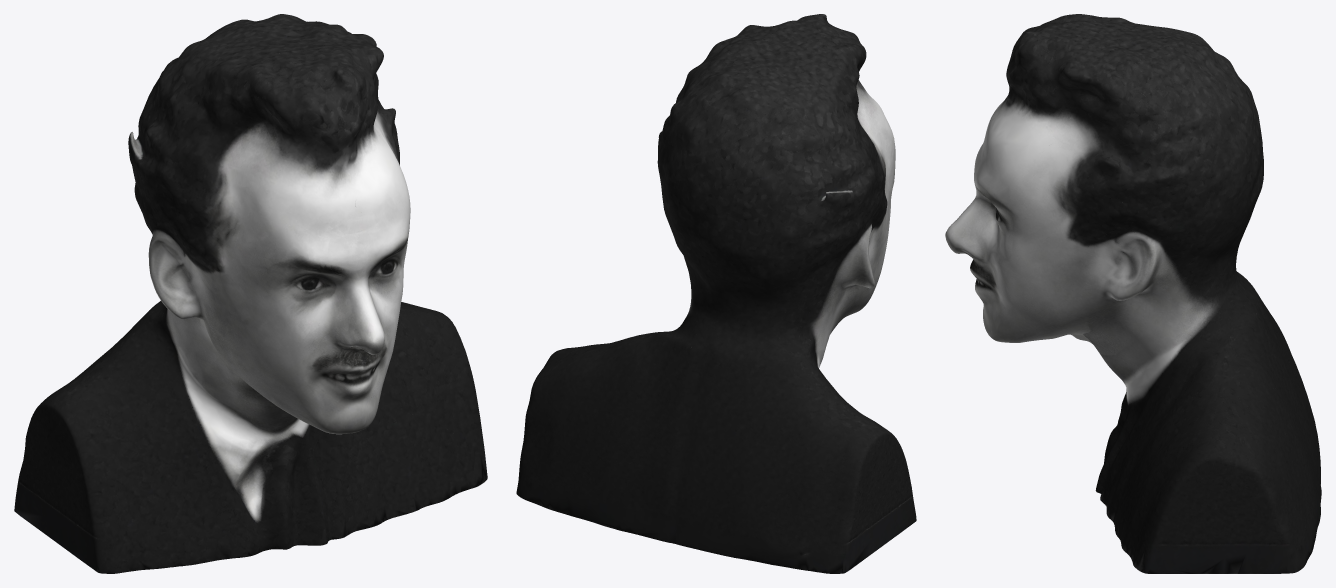
3 views of the same model, side by side, from view 1: azimuth 30°, elevation 25°; view 2: azimuth 150°, elevation 25°; view 3: azimuth 270°, elevation 25° (orthographic). The views are drawn at different scales.
Size of the model in its own units: 1.53 by 1.9 by 1.44.
1 material, 1 textured.
